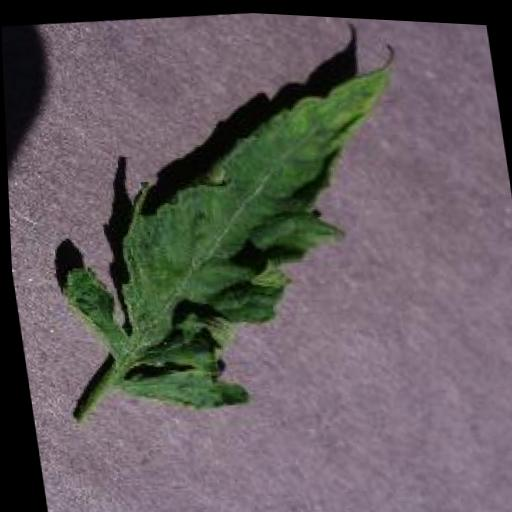Mosaic Virus: (28, 23, 447, 435)
